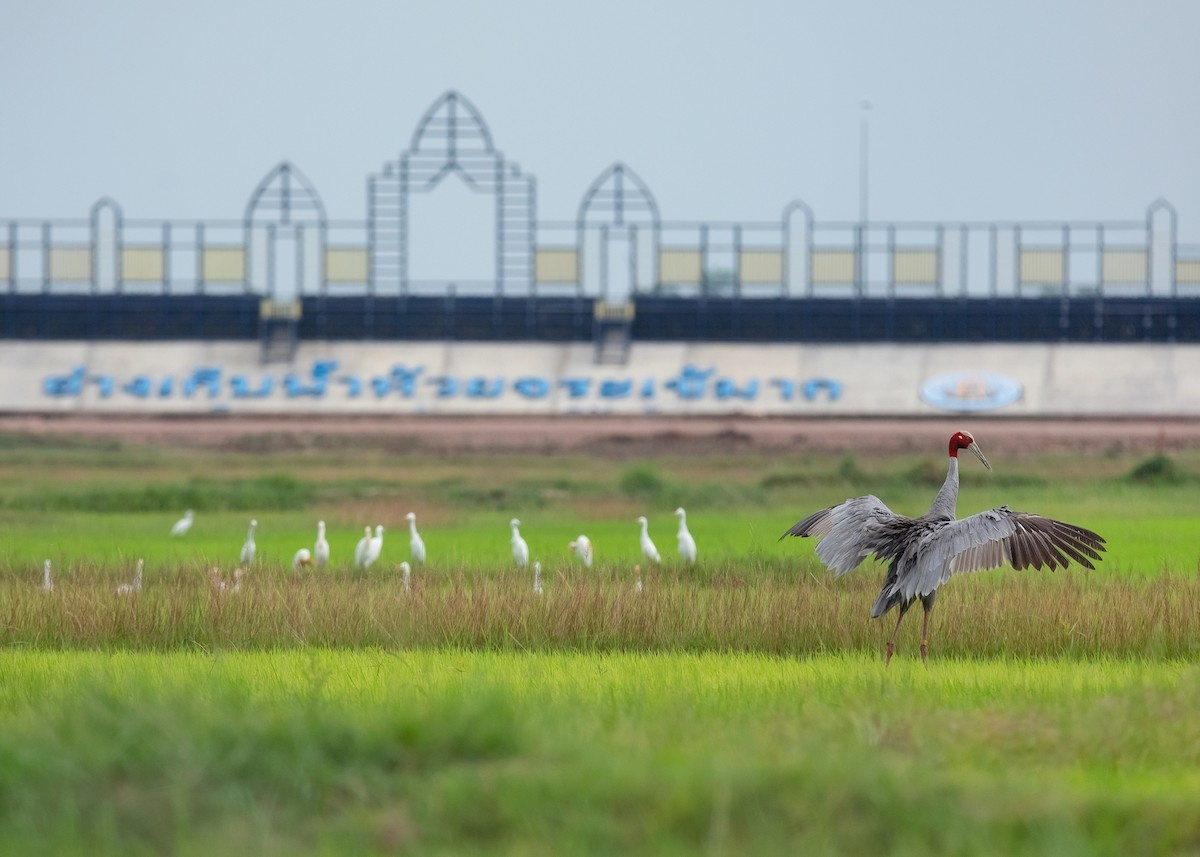crane: (779, 417, 1113, 667)
